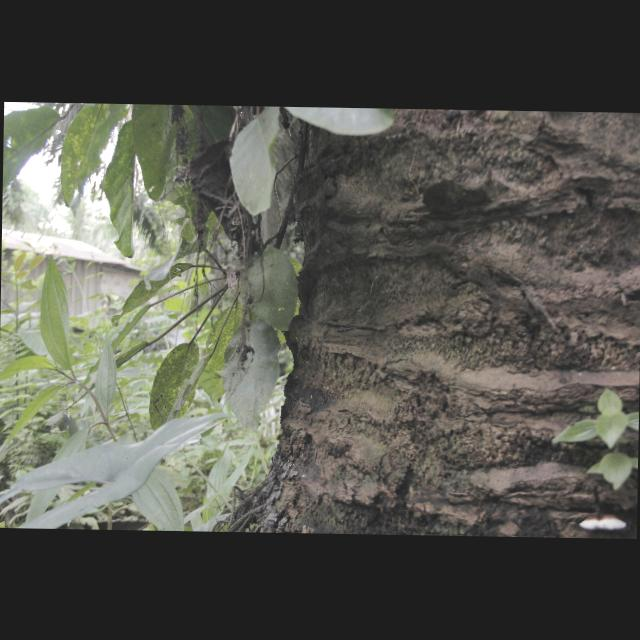ganoderma: (580, 514, 628, 532)
